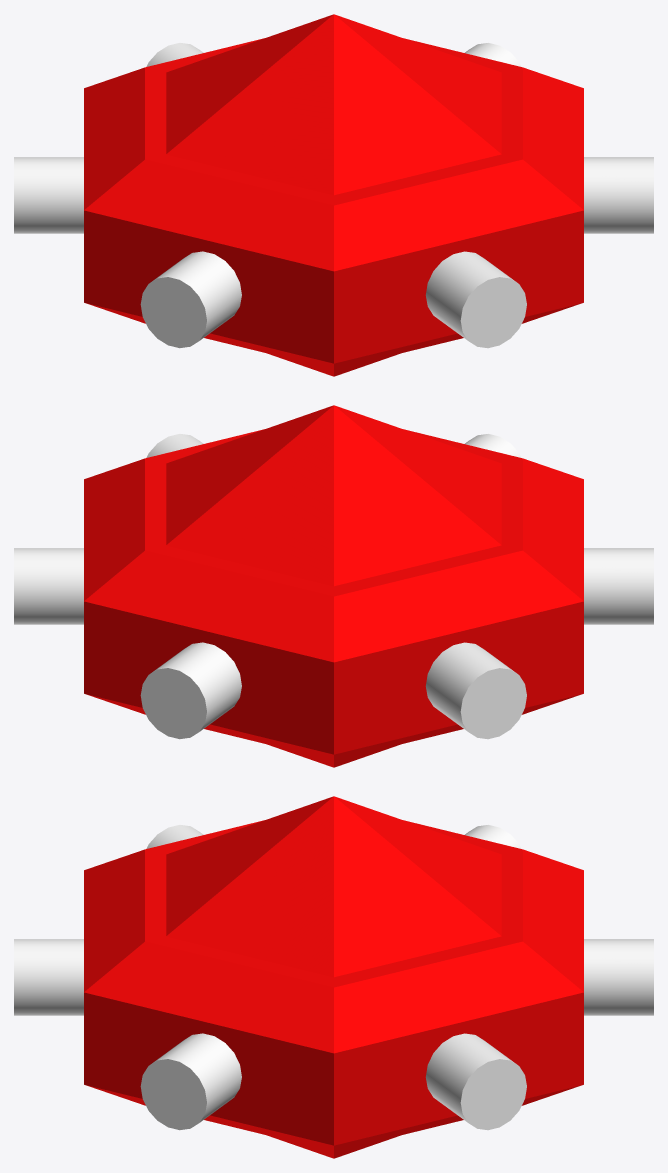
File: Holo_Usine.fbx
3 views of the same model, one above another, from view 1: azimuth 30°, elevation 25°; view 2: azimuth 150°, elevation 25°; view 3: azimuth 270°, elevation 25° (orthographic).
Visible parts, largest first — view 1: Holo_usine, Connexion (×6); view 2: Holo_usine, Connexion (×6); view 3: Holo_usine, Connexion (×6).
Boxes of the visible parts, box(x1,y1,x2,y2) form: Holo_usine: box(84, 14, 583, 376); Connexion (×6): box(14, 43, 653, 348); Holo_usine: box(84, 405, 583, 767); Connexion (×6): box(14, 434, 653, 739); Holo_usine: box(84, 796, 583, 1158); Connexion (×6): box(14, 825, 653, 1130).
Size of the model in its own units: 722 by 487 by 780.
